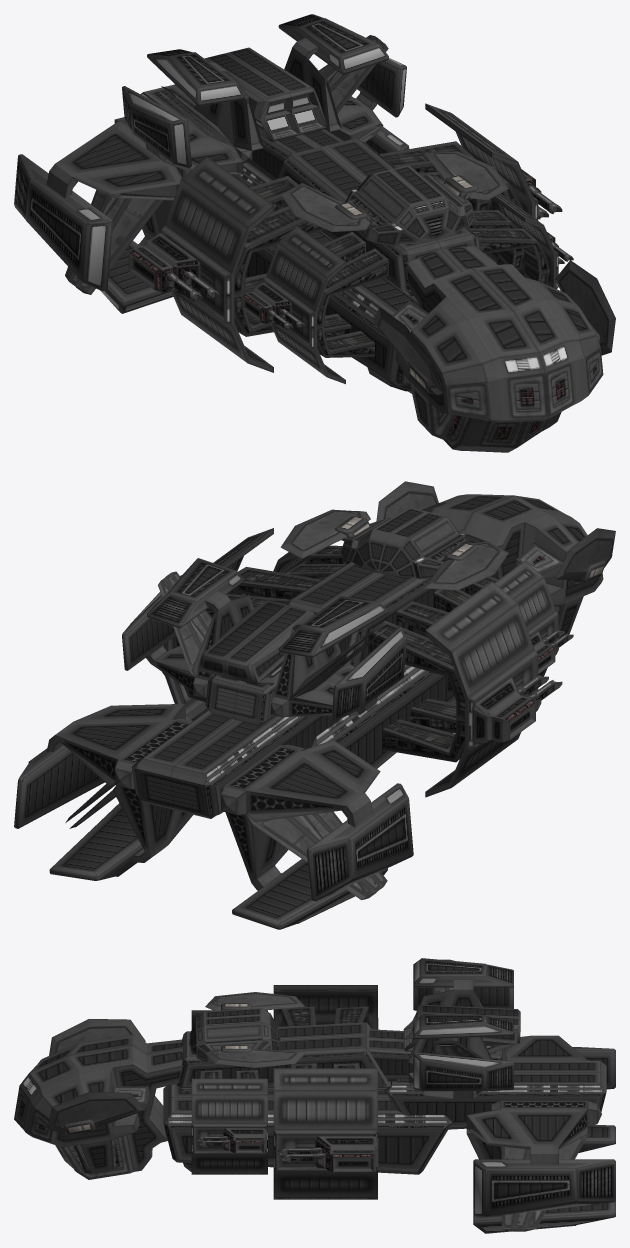
File: omegaisTioBattleshipA.FBX
3 views of the same model, one above another, from view 1: azimuth 30°, elevation 25°; view 2: azimuth 150°, elevation 25°; view 3: azimuth 270°, elevation 25° (orthographic). The views are drawn at different scales.
Visible parts, largest first — view 1: BattleshipA; view 2: BattleshipA; view 3: BattleshipA.
Part boxes in pixels (x1,y1,x2,y2): BattleshipA: (14,14,615,452); BattleshipA: (14,481,615,929); BattleshipA: (14,958,615,1233).
Size of the model in its own units: 683 by 1194 by 423.
